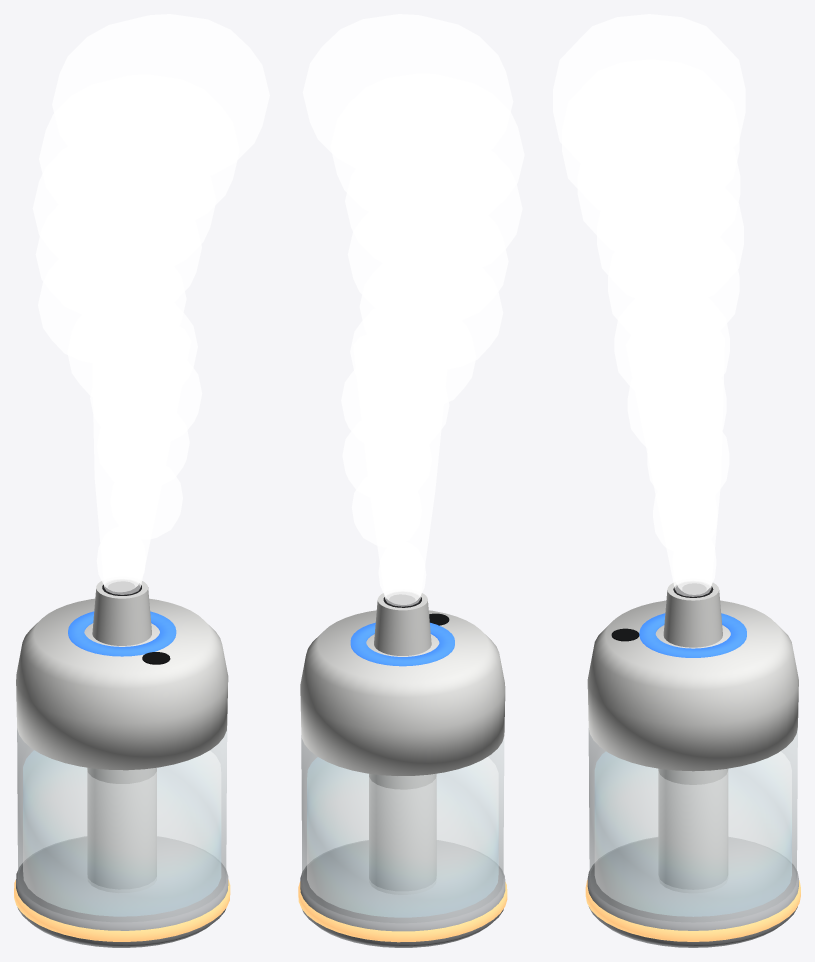
File: humidifier.glb
3 renders of one model, left to right at view 1: azimuth 30°, elevation 25°; view 2: azimuth 150°, elevation 25°; view 3: azimuth 270°, elevation 25°, orthographic. The views are drawn at different scales.
Parts seen in each view (by area): view 1: humidifier_mist, humidifier_tank, humidifier_body, humidifier_water, humidifier_base, humidifier_night_ring, humidifier_led; view 2: humidifier_mist, humidifier_tank, humidifier_body, humidifier_water, humidifier_base, humidifier_night_ring, humidifier_led; view 3: humidifier_mist, humidifier_tank, humidifier_body, humidifier_water, humidifier_base, humidifier_night_ring, humidifier_led.
Boxes of the visible parts, x1=… form: humidifier_mist: x1=32, y1=14, x2=269, y2=594; humidifier_tank: x1=17, y1=726, x2=227, y2=921; humidifier_body: x1=16, y1=581, x2=228, y2=770; humidifier_water: x1=23, y1=750, x2=220, y2=916; humidifier_base: x1=16, y1=837, x2=228, y2=947; humidifier_night_ring: x1=14, y1=879, x2=230, y2=941; humidifier_led: x1=68, y1=611, x2=176, y2=656; humidifier_mist: x1=302, y1=14, x2=524, y2=606; humidifier_tank: x1=301, y1=735, x2=504, y2=922; humidifier_body: x1=300, y1=593, x2=505, y2=775; humidifier_water: x1=307, y1=757, x2=498, y2=917; humidifier_base: x1=300, y1=840, x2=505, y2=947; humidifier_night_ring: x1=298, y1=881, x2=507, y2=942; humidifier_led: x1=350, y1=622, x2=454, y2=666; humidifier_mist: x1=553, y1=14, x2=745, y2=596; humidifier_tank: x1=588, y1=728, x2=797, y2=922; humidifier_body: x1=587, y1=582, x2=798, y2=771; humidifier_water: x1=595, y1=751, x2=791, y2=916; humidifier_base: x1=587, y1=837, x2=798, y2=947; humidifier_night_ring: x1=585, y1=880, x2=800, y2=941; humidifier_led: x1=639, y1=613, x2=746, y2=657.
Bounding box in the file's own units: 0.2391 × 0.98 × 0.2487.
